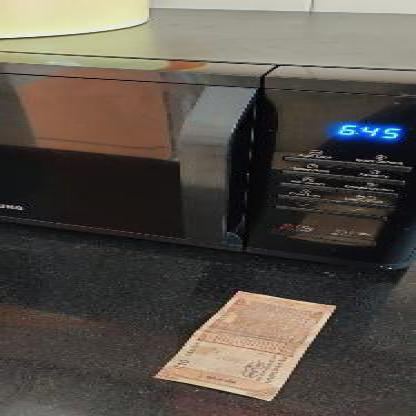New10Back: (149, 292, 338, 396)
